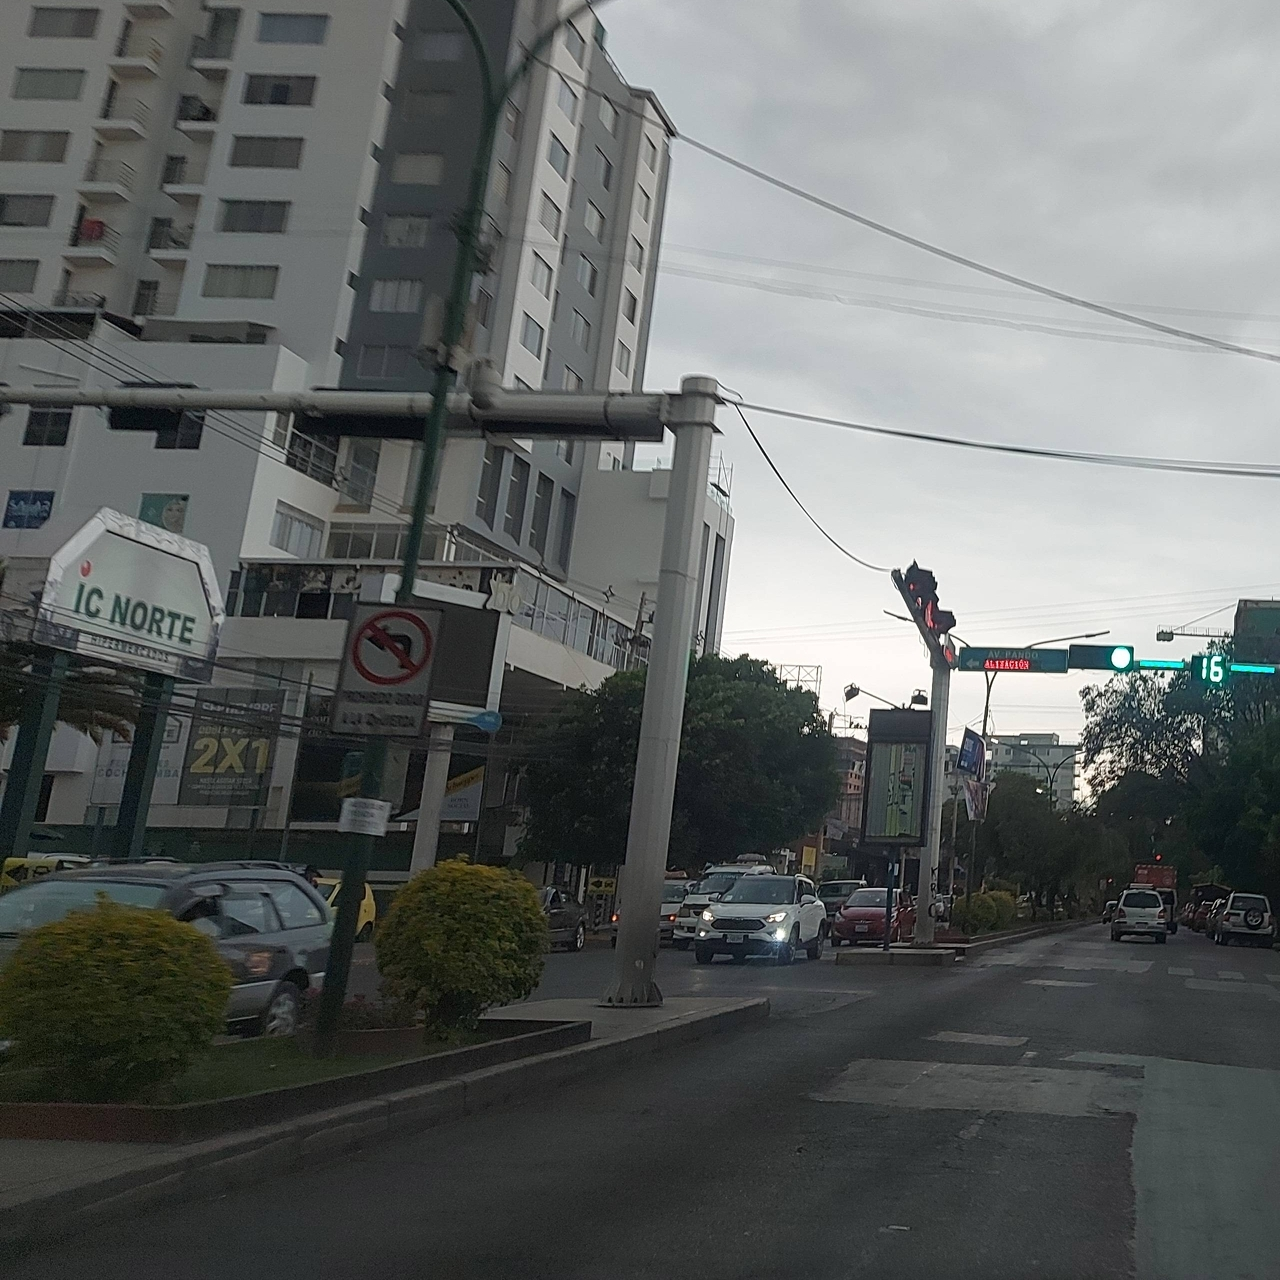prohibido-girar-izquierda: (332, 602, 442, 741)
